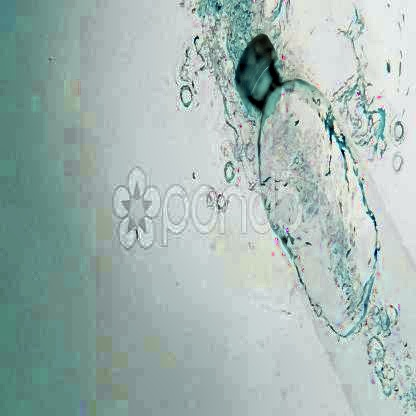pbottle: (223, 34, 416, 416)
